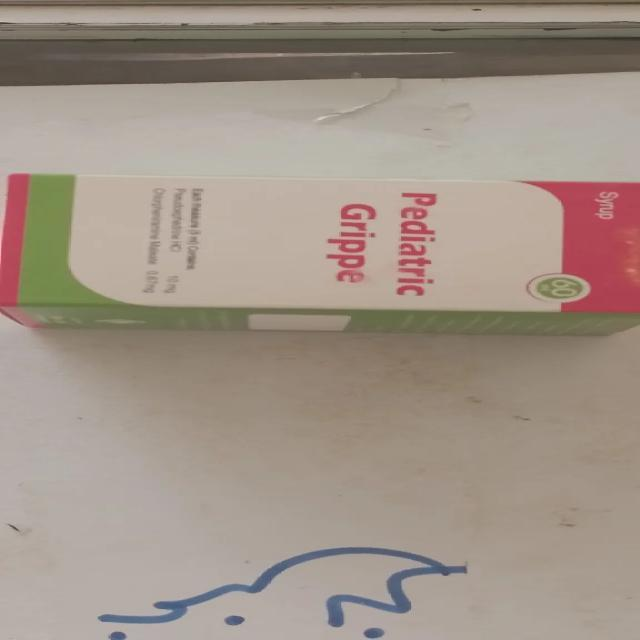drug-name: (325, 188, 439, 299)
